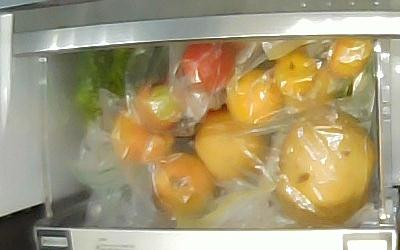peach_vinyl: (153, 153, 212, 217), (110, 105, 173, 162)
pear_vinyl: (274, 110, 372, 225), (194, 108, 270, 183)
tangerine_vinyl: (225, 70, 282, 124), (324, 37, 372, 78), (272, 54, 318, 95), (286, 71, 334, 110)
tomato_vinyl: (179, 44, 234, 91), (135, 82, 182, 131)
